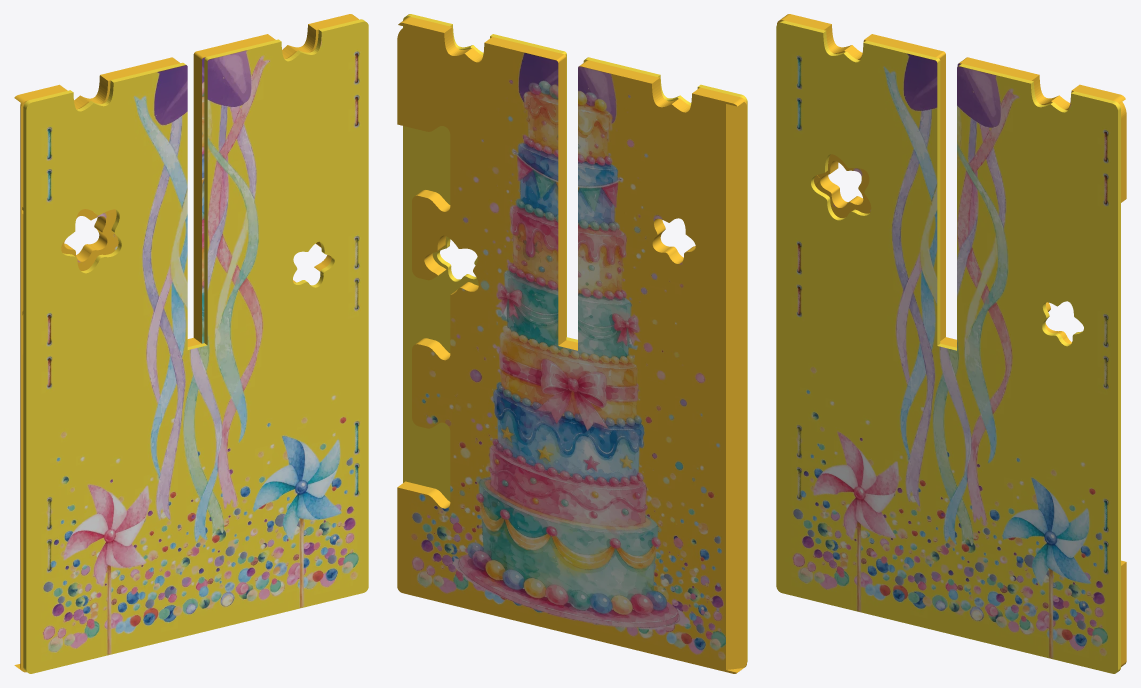
Rendered from narrow-right-bottom-linked.glb.
3 renders of one model, left to right at view 1: azimuth 30°, elevation 25°; view 2: azimuth 150°, elevation 25°; view 3: azimuth 330°, elevation 25°, orthographic.
Parts seen in each view (by area): view 1: narrow-right-bottom-linked; view 2: narrow-right-bottom-linked; view 3: narrow-right-bottom-linked.
Part boxes in pixels (<box>): narrow-right-bottom-linked: <box>14,14,368,673</box>; narrow-right-bottom-linked: <box>397,14,747,673</box>; narrow-right-bottom-linked: <box>776,14,1126,673</box>.
Bounding box in the file's own units: 584 × 925 × 33.
Materials: 4 (2 with a texture image).
